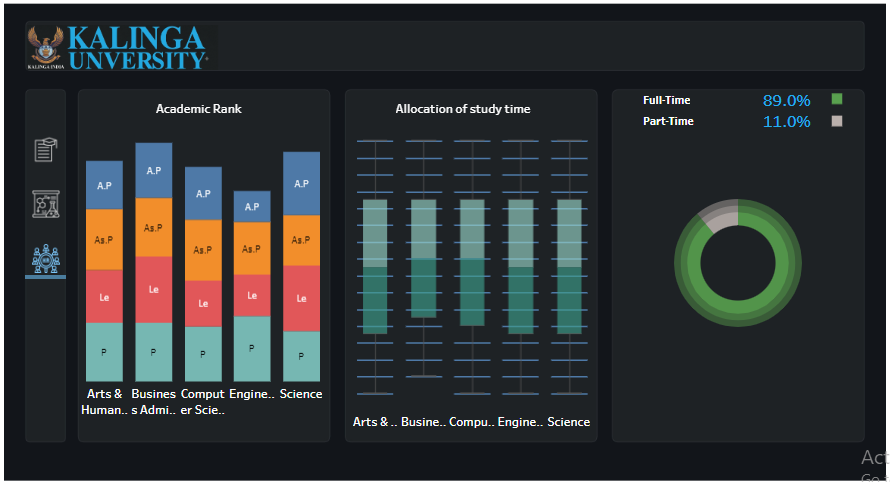

This screenshot's page, from the dashboard's own definition file:
{"tool":"tableau","page":{"name":"Dashboard 1 (3)","canvas":[1200,800],"ordinal":2},"visuals":[{"type":"image","param":"Image/aurora_template3.png","box":[8,8,1184,784]},{"type":"worksheet","title":"Sheet 22 (2)","mark":"Automatic","rows":["Employment_Type","Teaching_Hours_Per_Week"],"box":[858,195,287,57]},{"type":"text","box":[139,202,265,40]},{"type":"text","box":[534,202,199,40]},{"type":"worksheet","title":"Sheet 21 (2)","mark":"Pie","box":[831,228,320,400]},{"type":"dashboard-object","box":[45,240,46,73]},{"type":"worksheet","title":"Sheet 20","mark":"Automatic","rows":["Teaching_Hours_Per_Week"],"cols":["Faculty"],"box":[475,242,322,421]},{"type":"worksheet","title":"Sheet 19","mark":"Bar","rows":["Calculation_0242760205479963"],"cols":["Faculty"],"box":[113,251,328,398]},{"type":"dashboard-object","box":[45,313,46,73]},{"type":"dashboard-object","box":[45,386,46,72]},{"type":"text","box":[40,444,55,5]}]}

Visuals, with their boxes on the page's 1200x800 design canvas (x1, y1, x2, y2). These are canvas units, not pixel positions in the 890x482 screenshot, which may show the page scaled, cropped or inside an application window:
image: (left=8, top=8, right=1192, bottom=792)
"Sheet 22 (2)" worksheet: (left=858, top=195, right=1145, bottom=252)
text: (left=139, top=202, right=404, bottom=242)
text: (left=534, top=202, right=733, bottom=242)
"Sheet 21 (2)" worksheet (Pie marks): (left=831, top=228, right=1151, bottom=628)
dashboard-object: (left=45, top=240, right=91, bottom=313)
"Sheet 20" worksheet: (left=475, top=242, right=797, bottom=663)
"Sheet 19" worksheet (Bar marks): (left=113, top=251, right=441, bottom=649)
dashboard-object: (left=45, top=313, right=91, bottom=386)
dashboard-object: (left=45, top=386, right=91, bottom=458)
text: (left=40, top=444, right=95, bottom=449)
